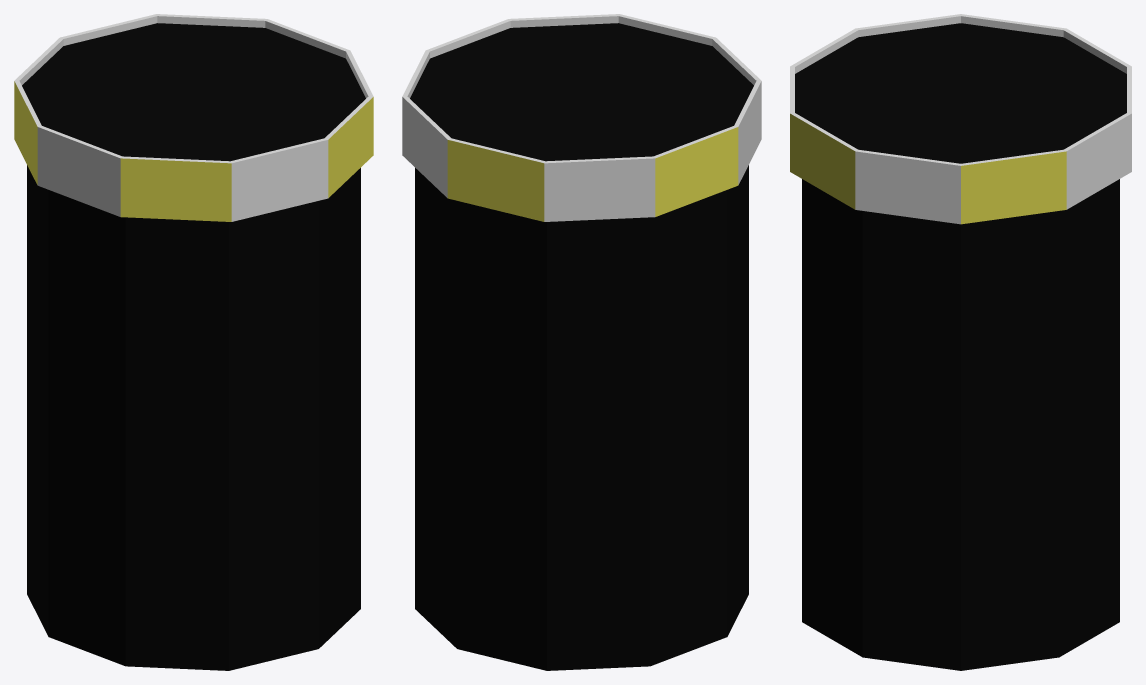
File: IceBucketLargeFullLabel.fbx
3 views of the same model, side by side, from view 1: azimuth 30°, elevation 25°; view 2: azimuth 150°, elevation 25°; view 3: azimuth 270°, elevation 25° (orthographic).
Parts seen in each view (by area): view 1: IceBucketClosedFullLabel; view 2: IceBucketClosedFullLabel; view 3: IceBucketClosedFullLabel.
Boxes of the visible parts, box(x1,y1,x2,y2) form: IceBucketClosedFullLabel: box(14, 14, 373, 670); IceBucketClosedFullLabel: box(402, 14, 761, 670); IceBucketClosedFullLabel: box(790, 14, 1131, 670).
Bounding box in the file's own units: 30.01 × 47.01 × 28.54.
